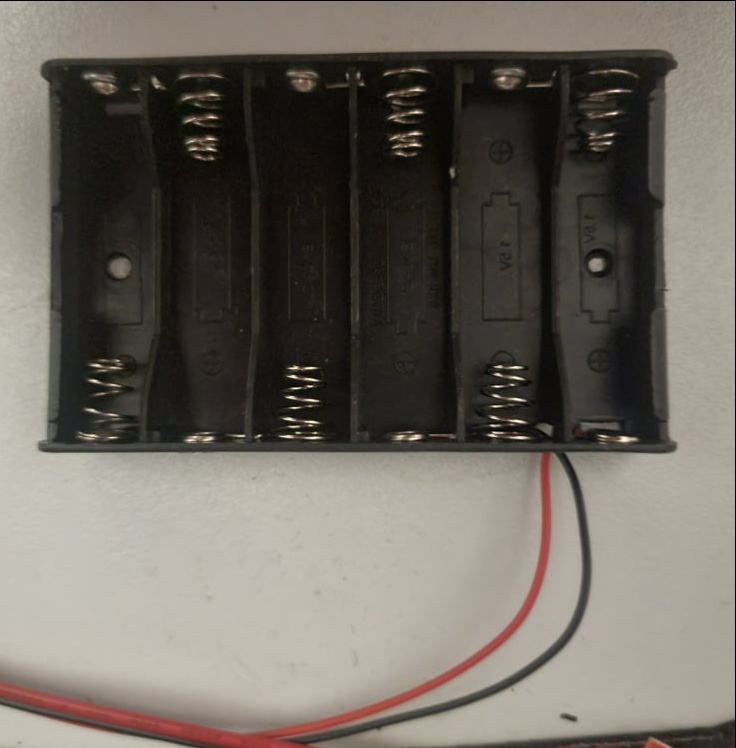BATTERY BOX: (35, 45, 682, 457)
